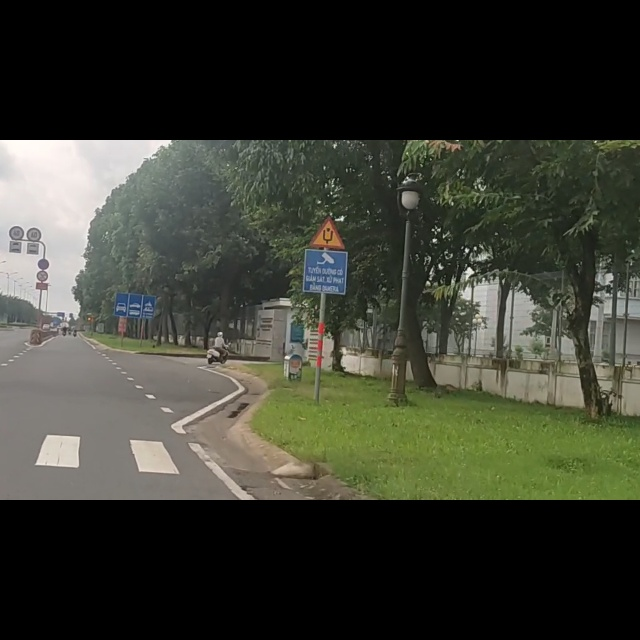bien_nguy_hiem: (307, 133, 347, 196), (113, 267, 157, 318), (26, 152, 42, 181), (9, 152, 25, 179)
